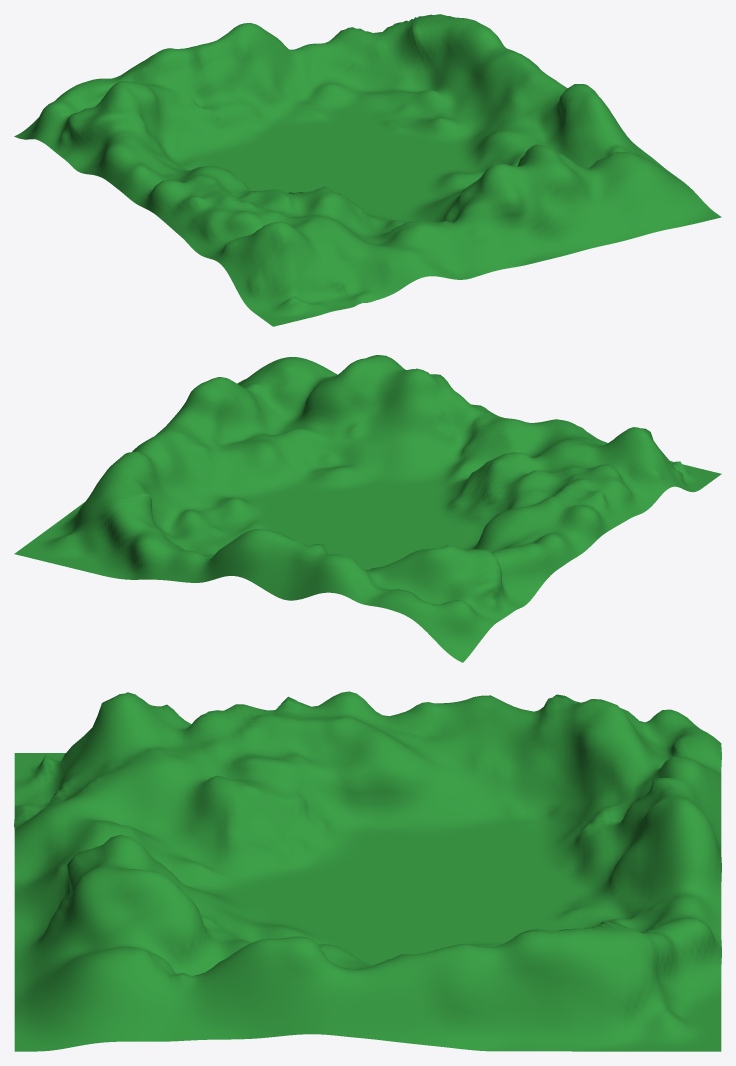
The model's file is Terrain.fbx.
3 views of the same model, one above another, from view 1: azimuth 30°, elevation 25°; view 2: azimuth 150°, elevation 25°; view 3: azimuth 270°, elevation 25° (orthographic). The views are drawn at different scales.
Visible parts, largest first — view 1: Terrain; view 2: Terrain; view 3: Terrain.
Part boxes in pixels (x1,y1,x2,y2): Terrain: (14,14,721,326); Terrain: (14,355,721,662); Terrain: (14,691,721,1051).
Size of the model in its own units: 502 by 74.73 by 501.
